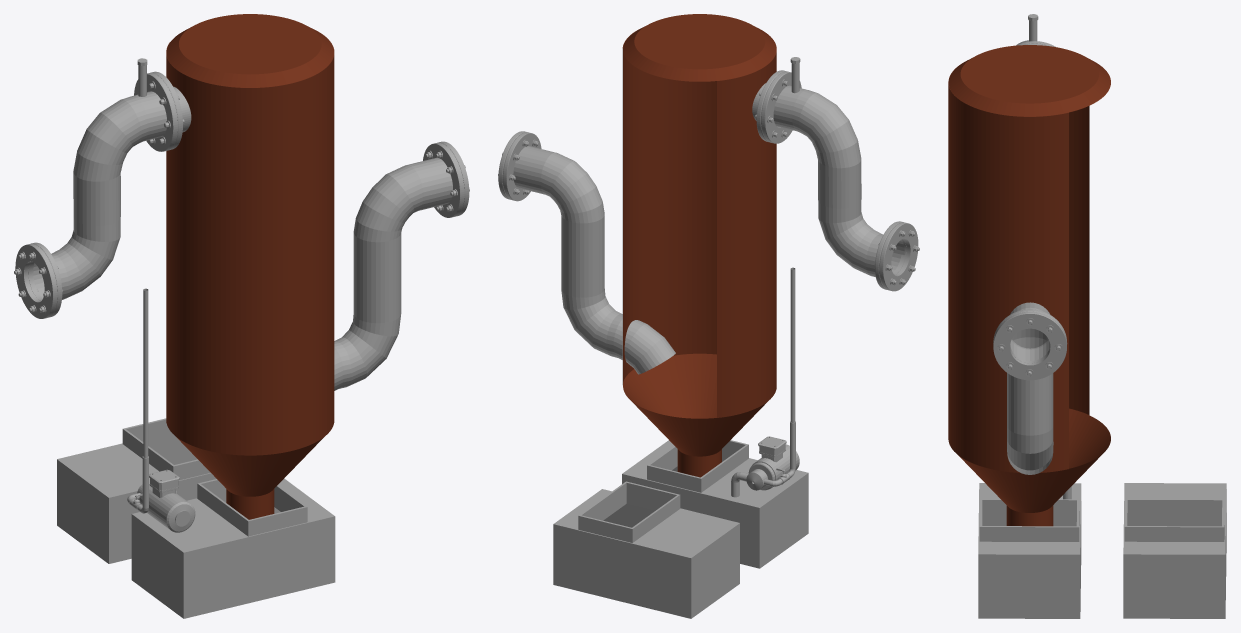
The model's file is Newemulgator.fbx.
3 views of the same model, side by side, from view 1: azimuth 30°, elevation 25°; view 2: azimuth 150°, elevation 25°; view 3: azimuth 270°, elevation 25° (orthographic). The views are drawn at different scales.
Parts seen in each view (by area): view 1: Фальга.028; view 2: Фальга.028; view 3: Фальга.028.
Part boxes in pixels (x1,y1,x2,y2): Фальга.028: (14,14,469,618); Фальга.028: (498,14,919,618); Фальга.028: (948,14,1226,618).
Bounding box in the file's own units: 12604 × 15266 × 7332.
